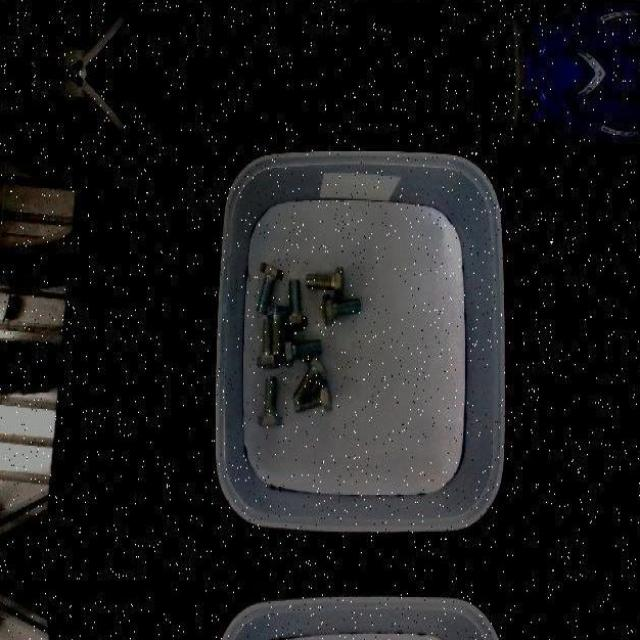screw: (292, 355, 328, 405), (257, 262, 283, 313), (284, 277, 308, 329), (283, 334, 322, 366), (257, 377, 281, 428), (306, 265, 344, 297), (323, 294, 361, 324), (266, 305, 288, 355)
